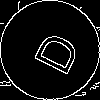D: (25, 25, 81, 78)
